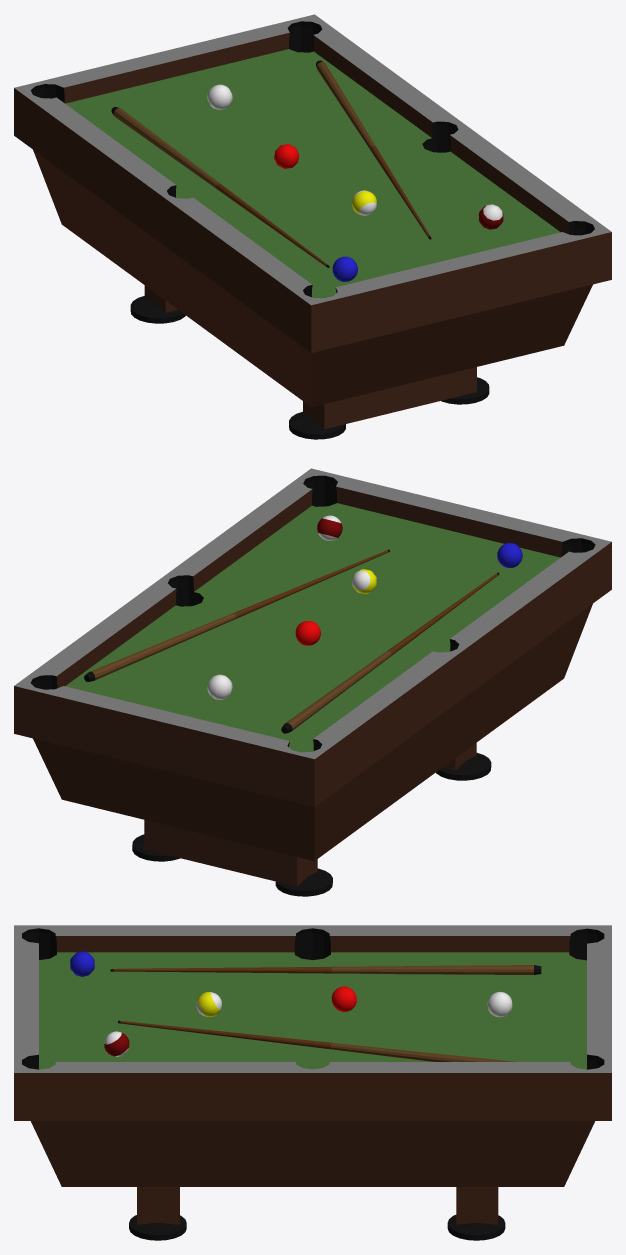
File: Pool Tafel.fbx
The picture shows the model from 3 angles, top to bottom: view 1: azimuth 30°, elevation 25°; view 2: azimuth 150°, elevation 25°; view 3: azimuth 270°, elevation 25°; orthographic projection.
Parts seen in each view (by area): view 1: Pool_Tafel; view 2: Pool_Tafel; view 3: Pool_Tafel.
Boxes of the visible parts, left/top/right/bottom form: Pool_Tafel: left=14, top=14, right=611, bottom=439; Pool_Tafel: left=14, top=468, right=611, bottom=896; Pool_Tafel: left=14, top=925, right=611, bottom=1240.
Size of the model in its own units: 12.1 by 7.67 by 20.71.
